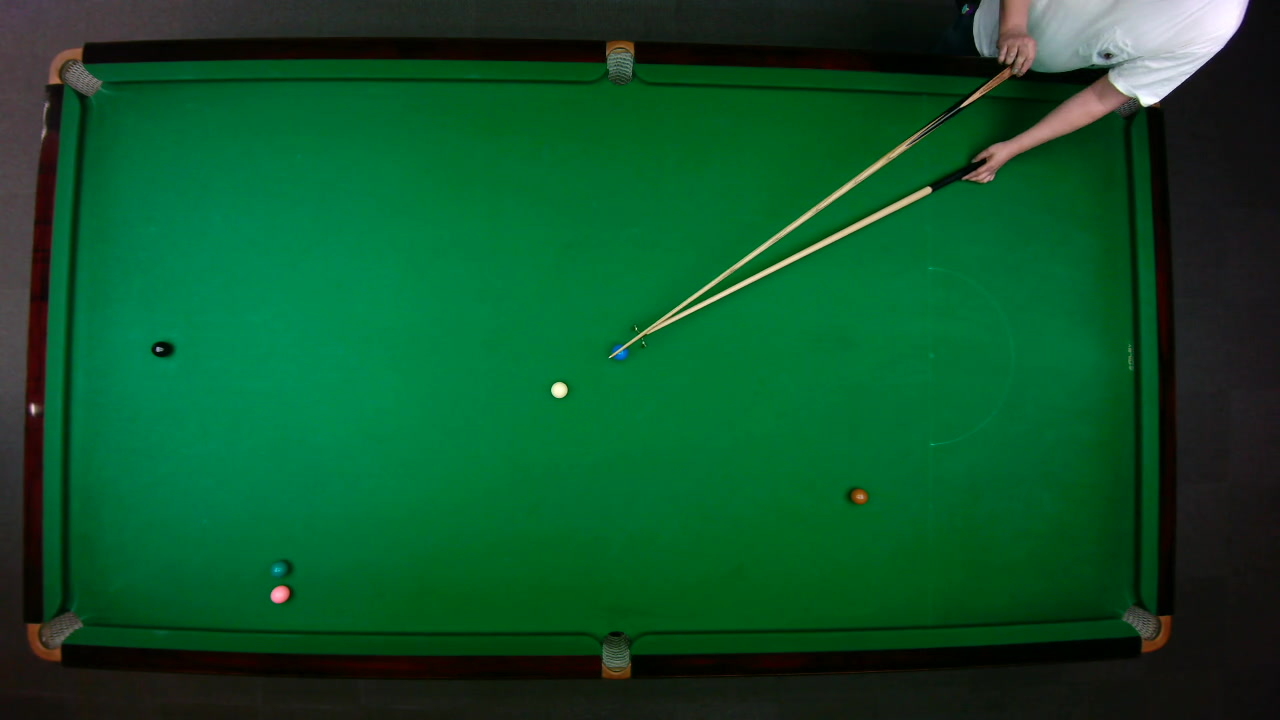bag: (25, 609, 84, 661), (46, 46, 102, 97), (1119, 603, 1171, 652), (600, 629, 630, 679), (605, 38, 633, 85)
black: (149, 339, 171, 357)
brown: (848, 487, 868, 504)
cue: (607, 62, 1017, 362)
green: (269, 558, 289, 576)
pink: (268, 583, 290, 604)
white: (549, 380, 568, 398)
zone: (927, 265, 1013, 445)
